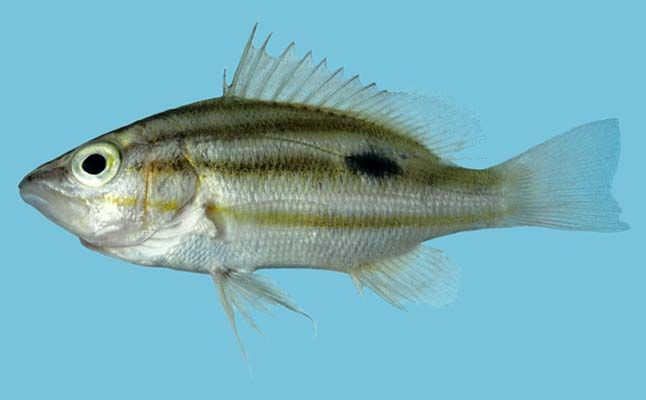fish: (17, 22, 633, 379)
